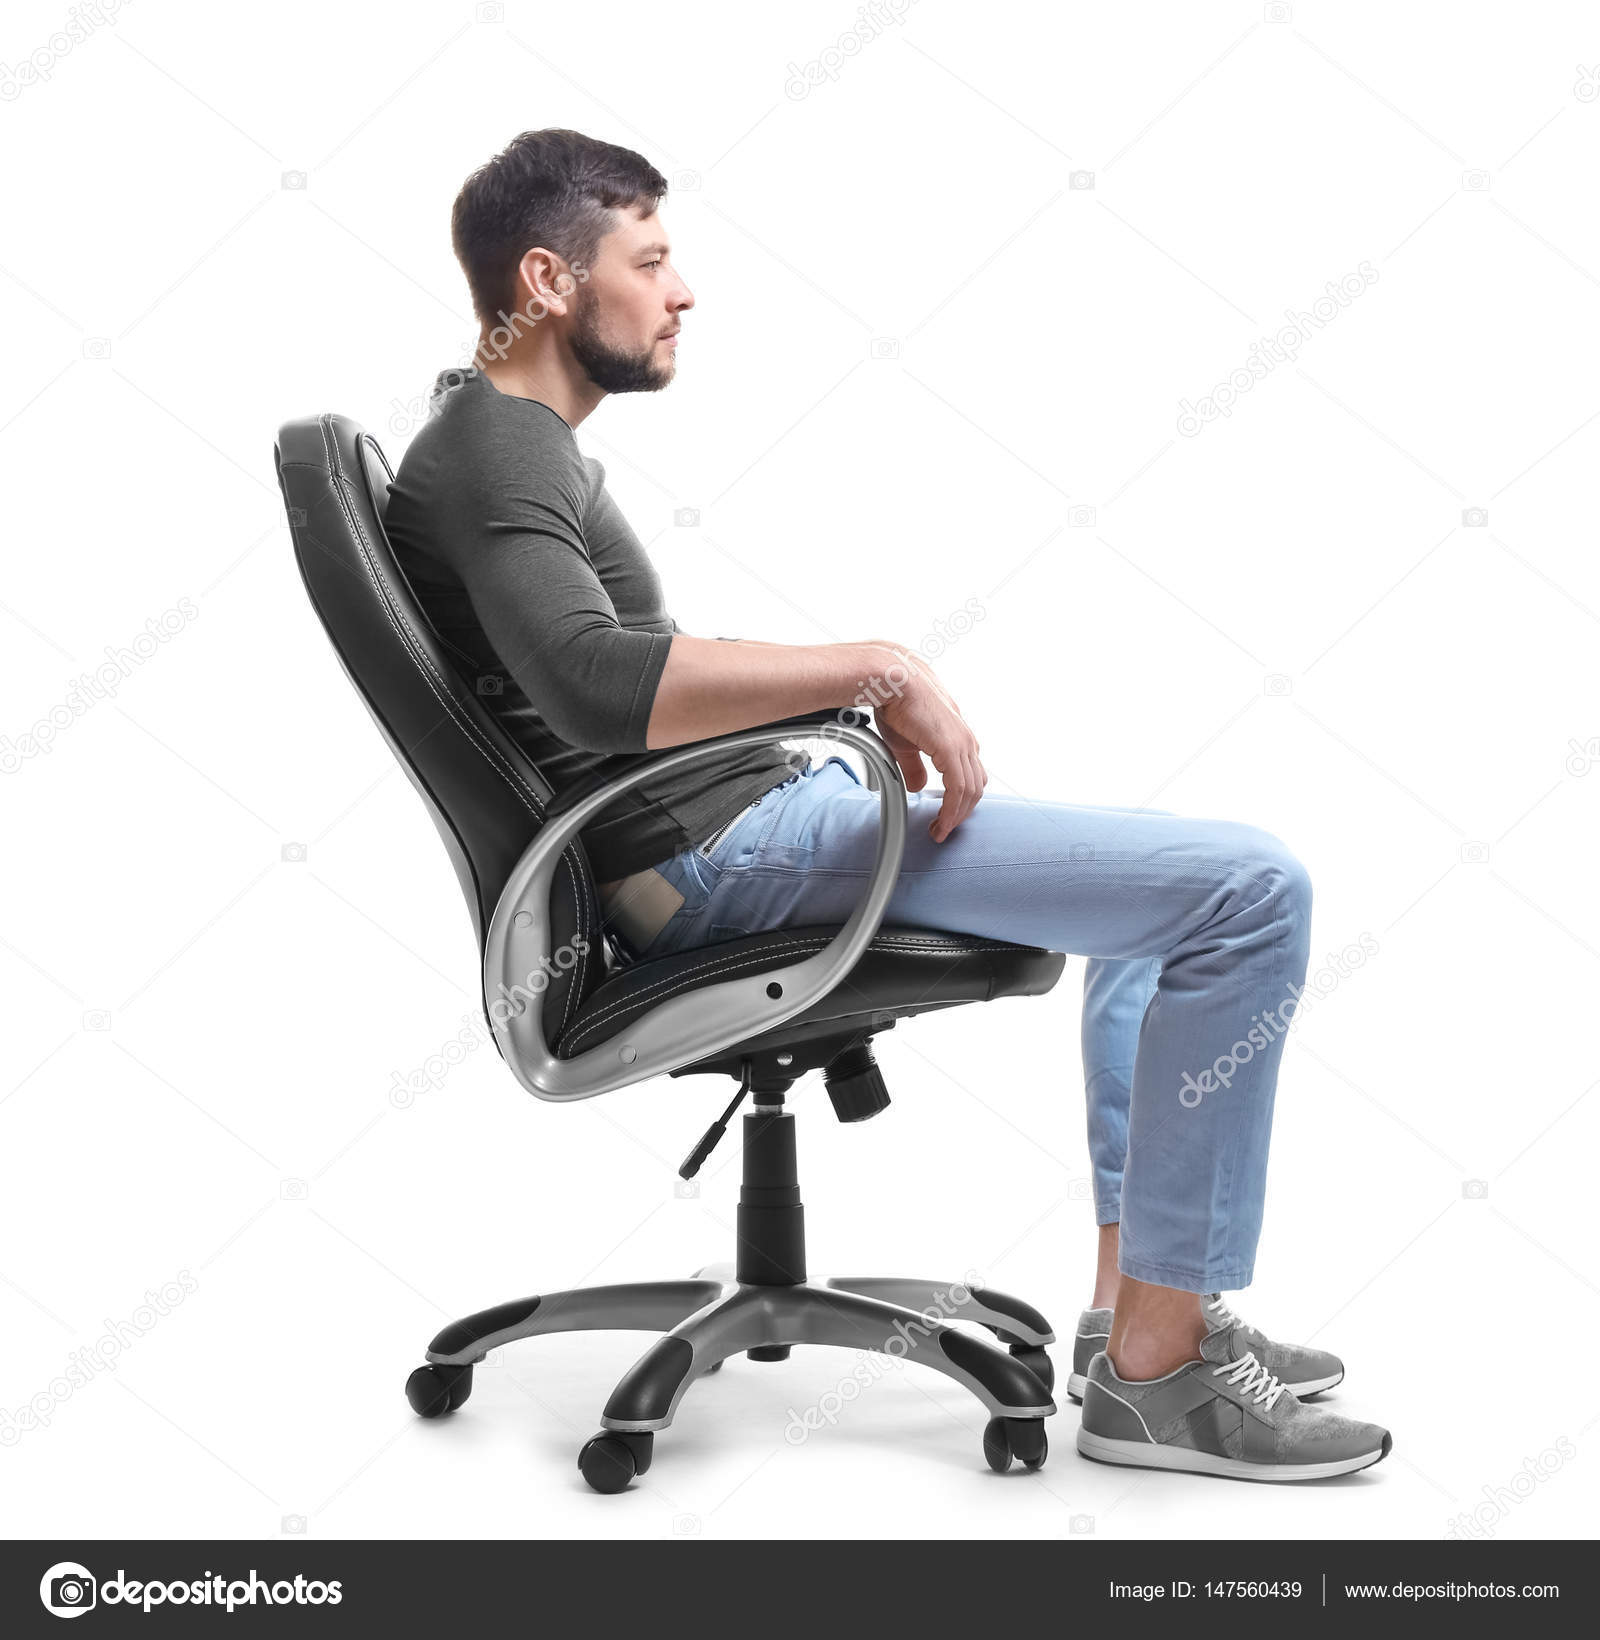chairs: (265, 413, 1081, 1499)
